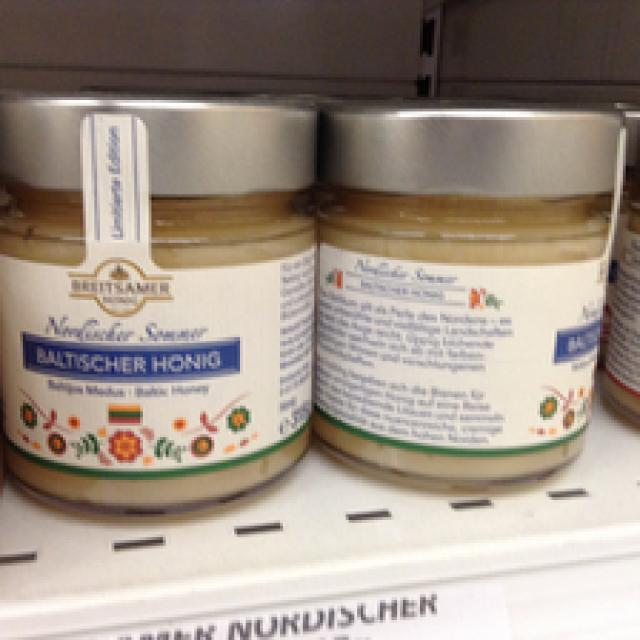groceries: (0, 86, 323, 523), (320, 97, 631, 497)
